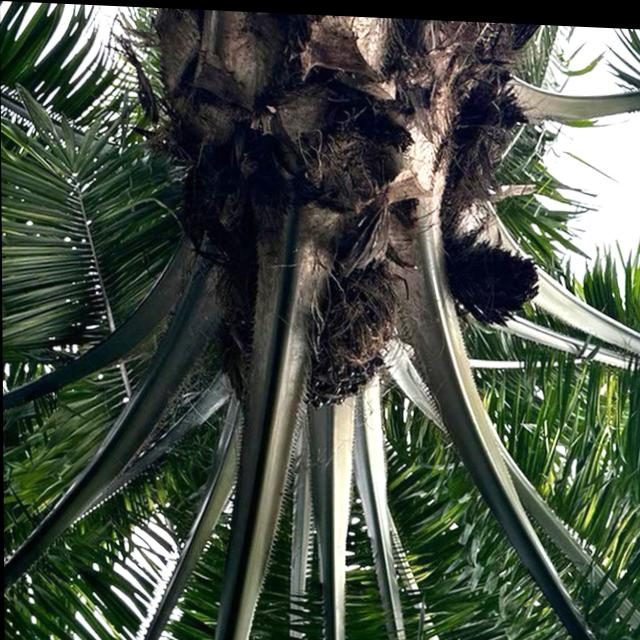almost: (282, 260, 397, 417)
